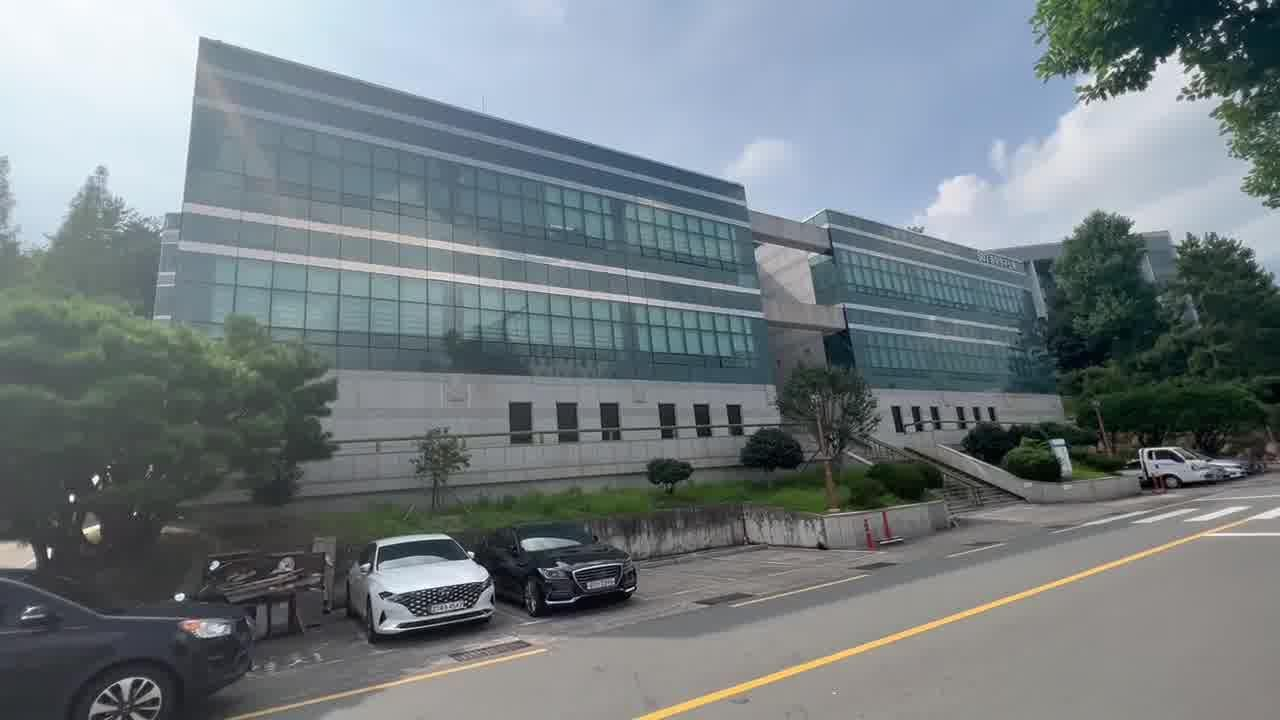building: (162, 76, 1033, 434)
